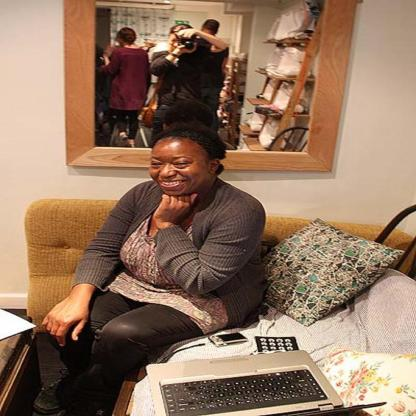board: (128, 326, 359, 413)
